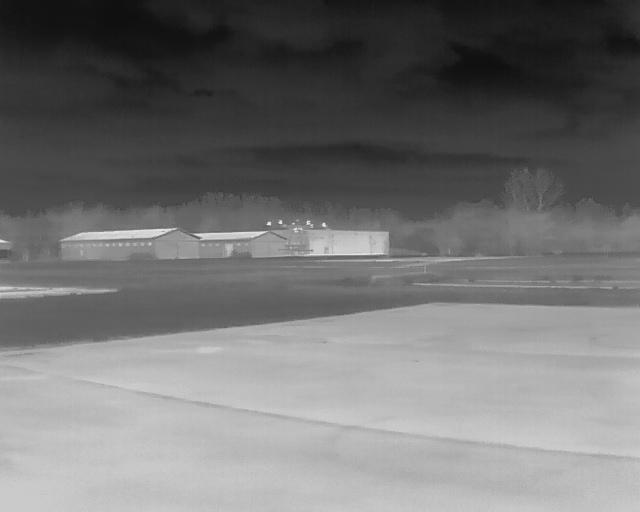drone: (264, 209, 330, 260)
